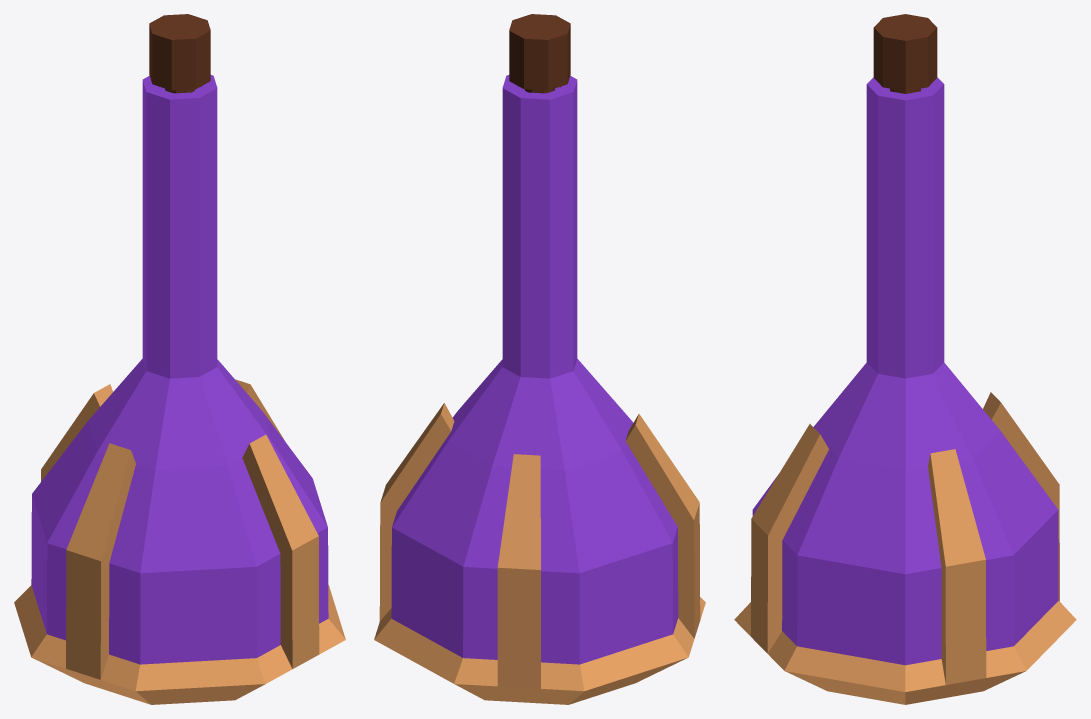
The model's file is potion_mana.glb.
3 views of the same model, side by side, from view 1: azimuth 30°, elevation 25°; view 2: azimuth 150°, elevation 25°; view 3: azimuth 270°, elevation 25° (orthographic).
Visible parts, largest first — view 1: Potion; view 2: Potion; view 3: Potion.
Boxes of the visible parts, x1,y1,x2,y2 form: Potion: (14,14,345,704); Potion: (374,14,705,704); Potion: (734,14,1076,704).
Size of the model in its own units: 0.5738 by 1.17 by 0.5738.
